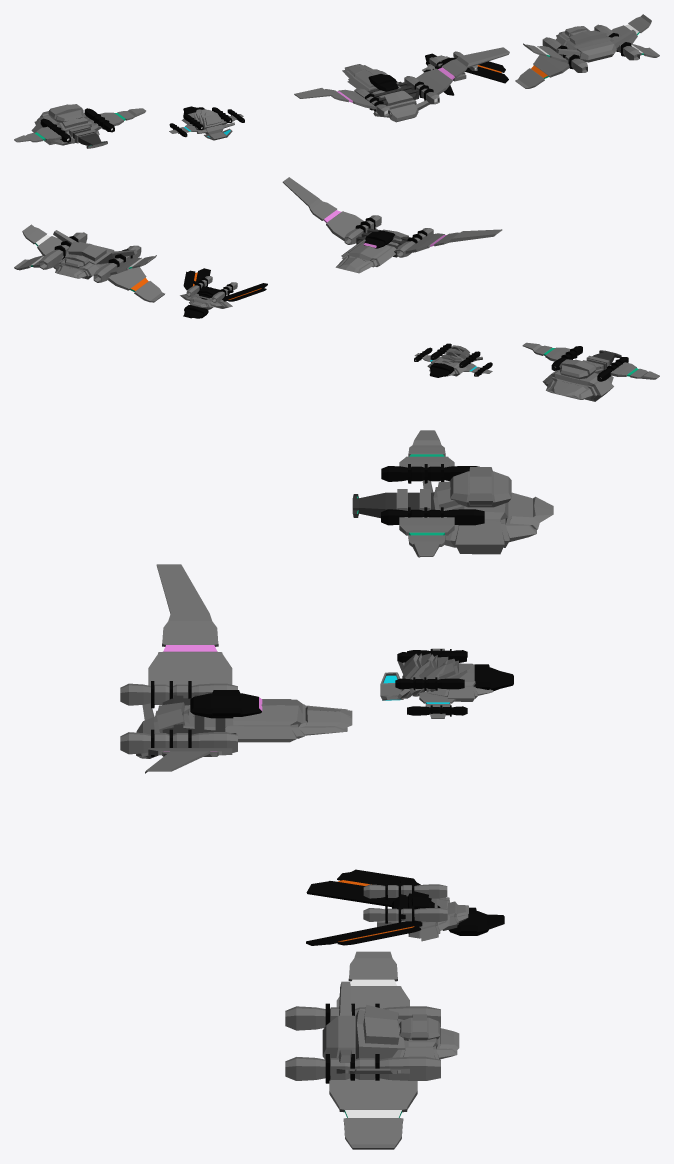
File: spaceships.fbx
The picture shows the model from 3 angles, top to bottom: view 1: azimuth 30°, elevation 25°; view 2: azimuth 150°, elevation 25°; view 3: azimuth 270°, elevation 25°; orthographic projection. The views are drawn at different scales.
Visible parts, largest first — view 1: Cube.035, Cube.023, Cube.037, Cube.019, Cube.017, Cube.022, Cube.041, Cube.002, Cube.031, Cube.047, Cube.039, Cube (+12 smaller); view 2: Cube.023, Cube.001, Cube.017, Cube.037, Cube.035, Cube.022, Cube.036, Cube.039, Cube.047, Cube, Cube.033, Cube.004 (+7 smaller); view 3: Cube.022, Cube.048, Cube.017, Cube.035, Cube.001, Cube.036, Cube.038, Cube, Cube.021, Cube.030, Cube.047, Cube.046 (+13 smaller).
Boxes of the visible parts, box(x1,y1,x2,y2) form: Cube.035: box(556, 30, 636, 62); Cube.023: box(416, 47, 509, 94); Cube.037: box(515, 55, 569, 88); Cube.019: box(373, 91, 429, 122); Cube.017: box(342, 64, 403, 97); Cube.022: box(294, 88, 376, 109); Cube.041: box(197, 110, 234, 140); Cube.002: box(69, 125, 107, 148); Cube.031: box(465, 61, 508, 83); Cube.047: box(542, 37, 587, 72); Cube.039: box(611, 14, 651, 44); Cube: box(48, 104, 83, 122); Cube.023: box(282, 177, 363, 241); Cube.001: box(542, 369, 613, 401); Cube.017: box(335, 238, 401, 273); Cube.037: box(108, 267, 164, 302); Cube.035: box(53, 230, 137, 268); Cube.022: box(405, 229, 502, 253); Cube.036: box(39, 232, 87, 269); Cube.039: box(22, 224, 62, 255); Cube.047: box(93, 245, 141, 282); Cube: box(559, 359, 596, 379); Cube.033: box(53, 258, 99, 279); Cube.004: box(610, 362, 659, 379); Cube.022: box(148, 564, 232, 685); Cube.048: box(329, 1078, 417, 1149); Cube.017: box(162, 699, 352, 742); Cube.035: box(322, 981, 405, 1062); Cube.001: box(434, 492, 553, 554); Cube.036: box(285, 1054, 440, 1083); Cube.038: box(336, 951, 409, 1008); Cube: box(450, 467, 511, 507); Cube.021: box(120, 729, 237, 756); Cube.030: box(306, 869, 420, 907); Cube.047: box(285, 1003, 440, 1030); Cube.046: box(120, 681, 237, 708).
Bounding box in the file's own units: 7778 × 1113 × 2332.
